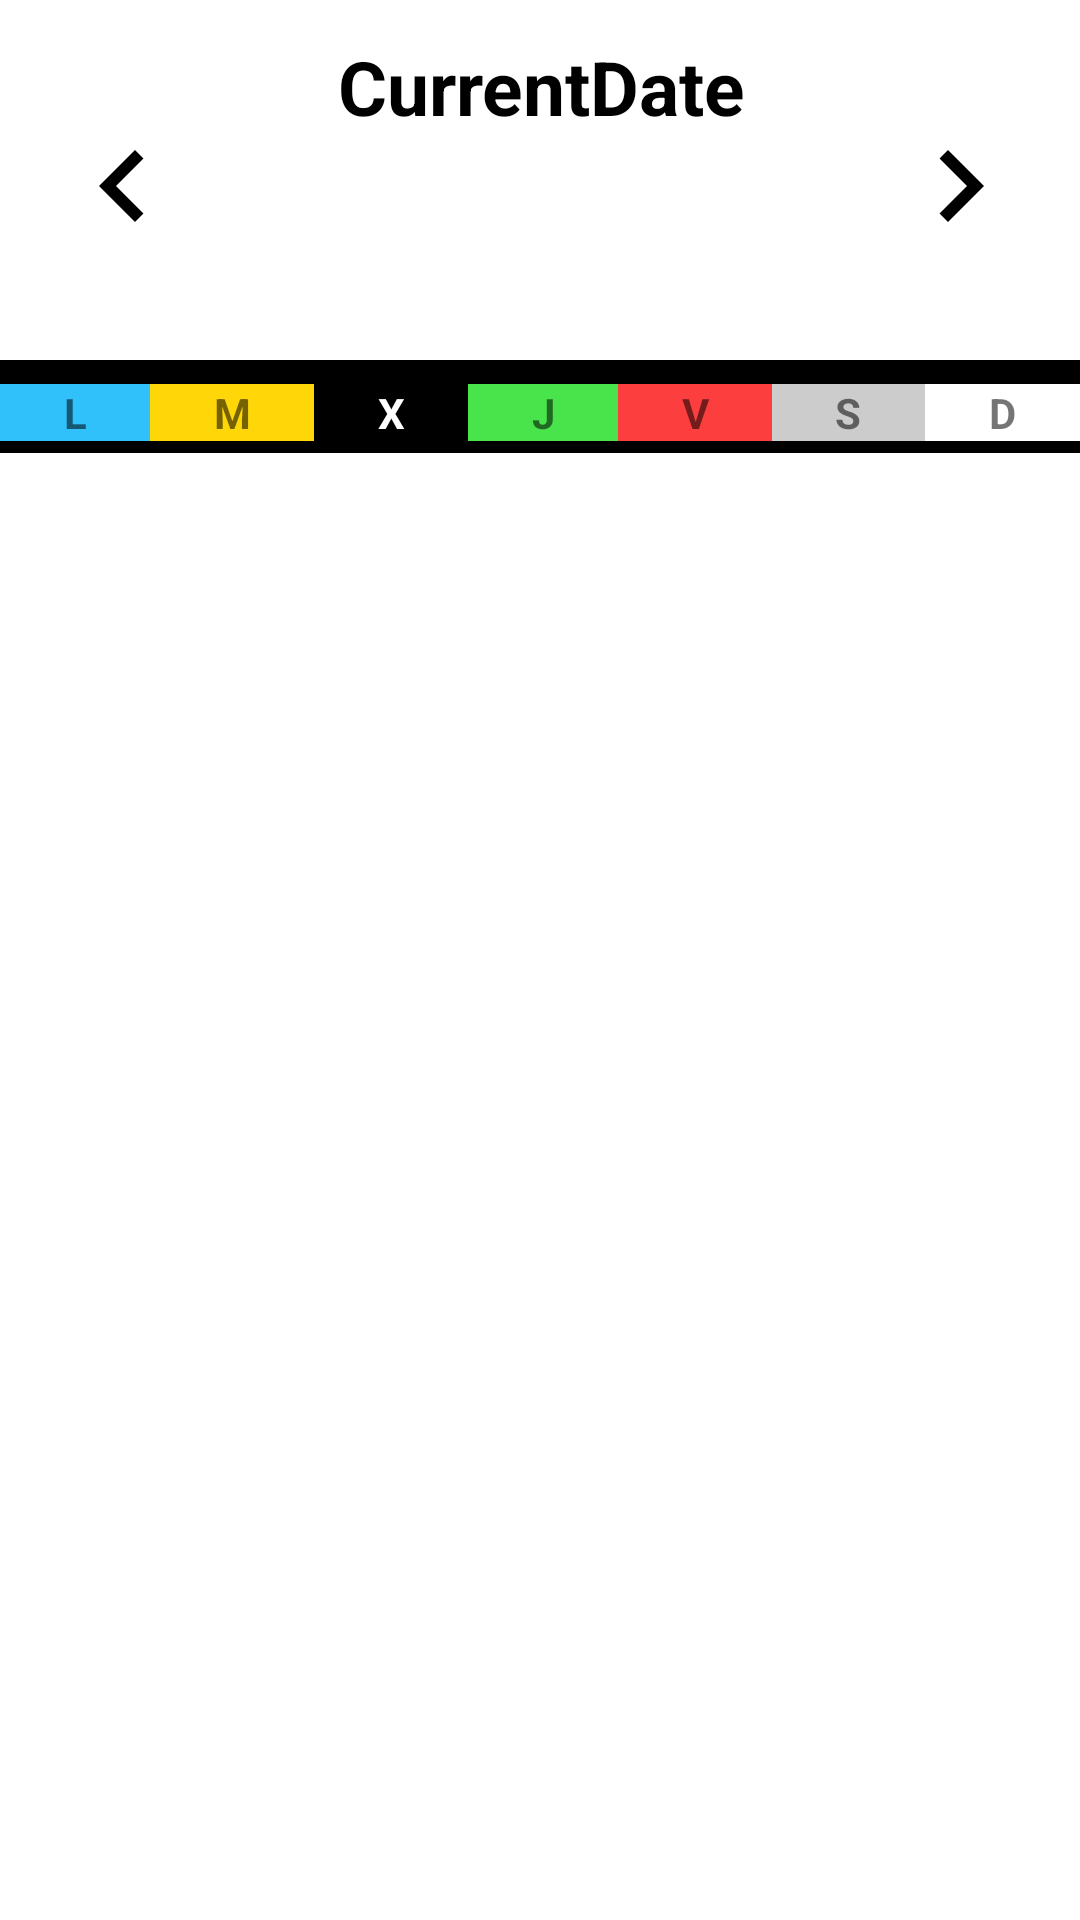

Icon bounding boxes for this 1080px×1920px phone screenshot, format [x1, y1, x2, y2]:
keyboard next: [939, 150, 984, 222]
keyboard previous: [99, 150, 144, 222]
